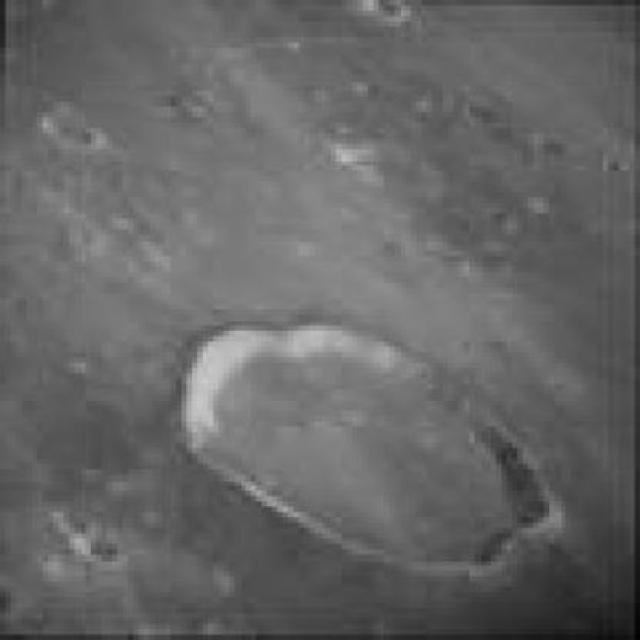crater: (184, 324, 554, 571)
